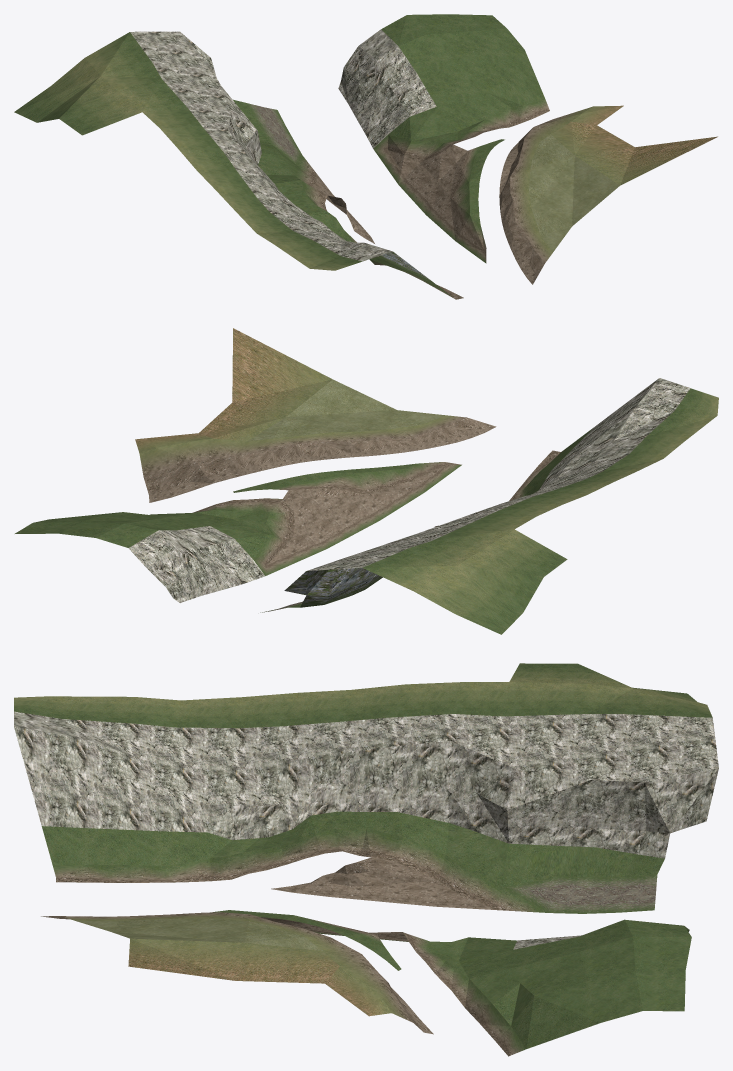
The model's file is cunteground16.obj.
3 renders of one model, top to bottom at view 1: azimuth 30°, elevation 25°; view 2: azimuth 150°, elevation 25°; view 3: azimuth 270°, elevation 25°, orthographic. The views are drawn at different scales.
Parts seen in each view (by area): view 1: cuntEground16; view 2: cuntEground16; view 3: cuntEground16.
Part boxes in pixels (x1,y1,x2,y2): cuntEground16: (14, 14, 717, 299); cuntEground16: (15, 328, 718, 634); cuntEground16: (14, 663, 718, 1056).
Size of the model in its own units: 267 by 54.98 by 267.
12 materials, 12 textured.
